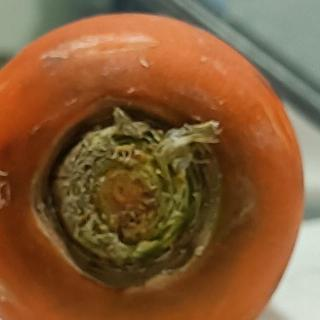carrot: (0, 8, 306, 320)
